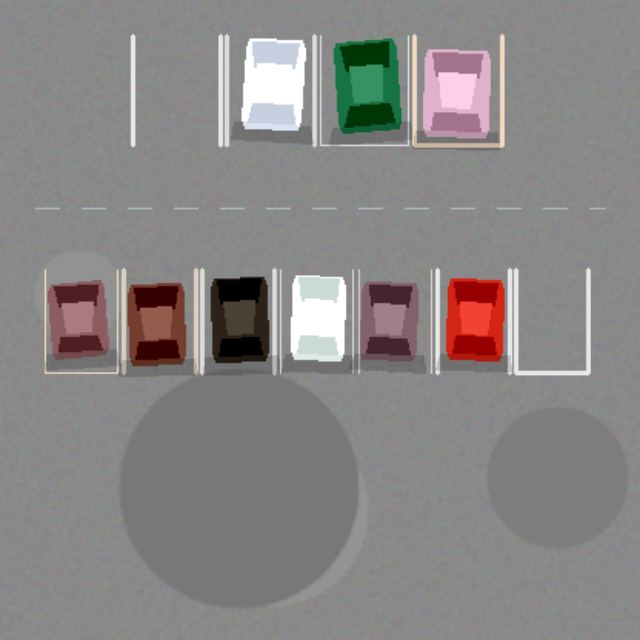space-empty: (132, 35, 220, 145), (515, 269, 588, 372)
space-occupied: (226, 35, 314, 145), (320, 35, 408, 145), (414, 35, 502, 145), (358, 269, 431, 372), (45, 269, 117, 372), (123, 269, 195, 372), (202, 269, 274, 372), (280, 269, 352, 372), (437, 269, 509, 372)
